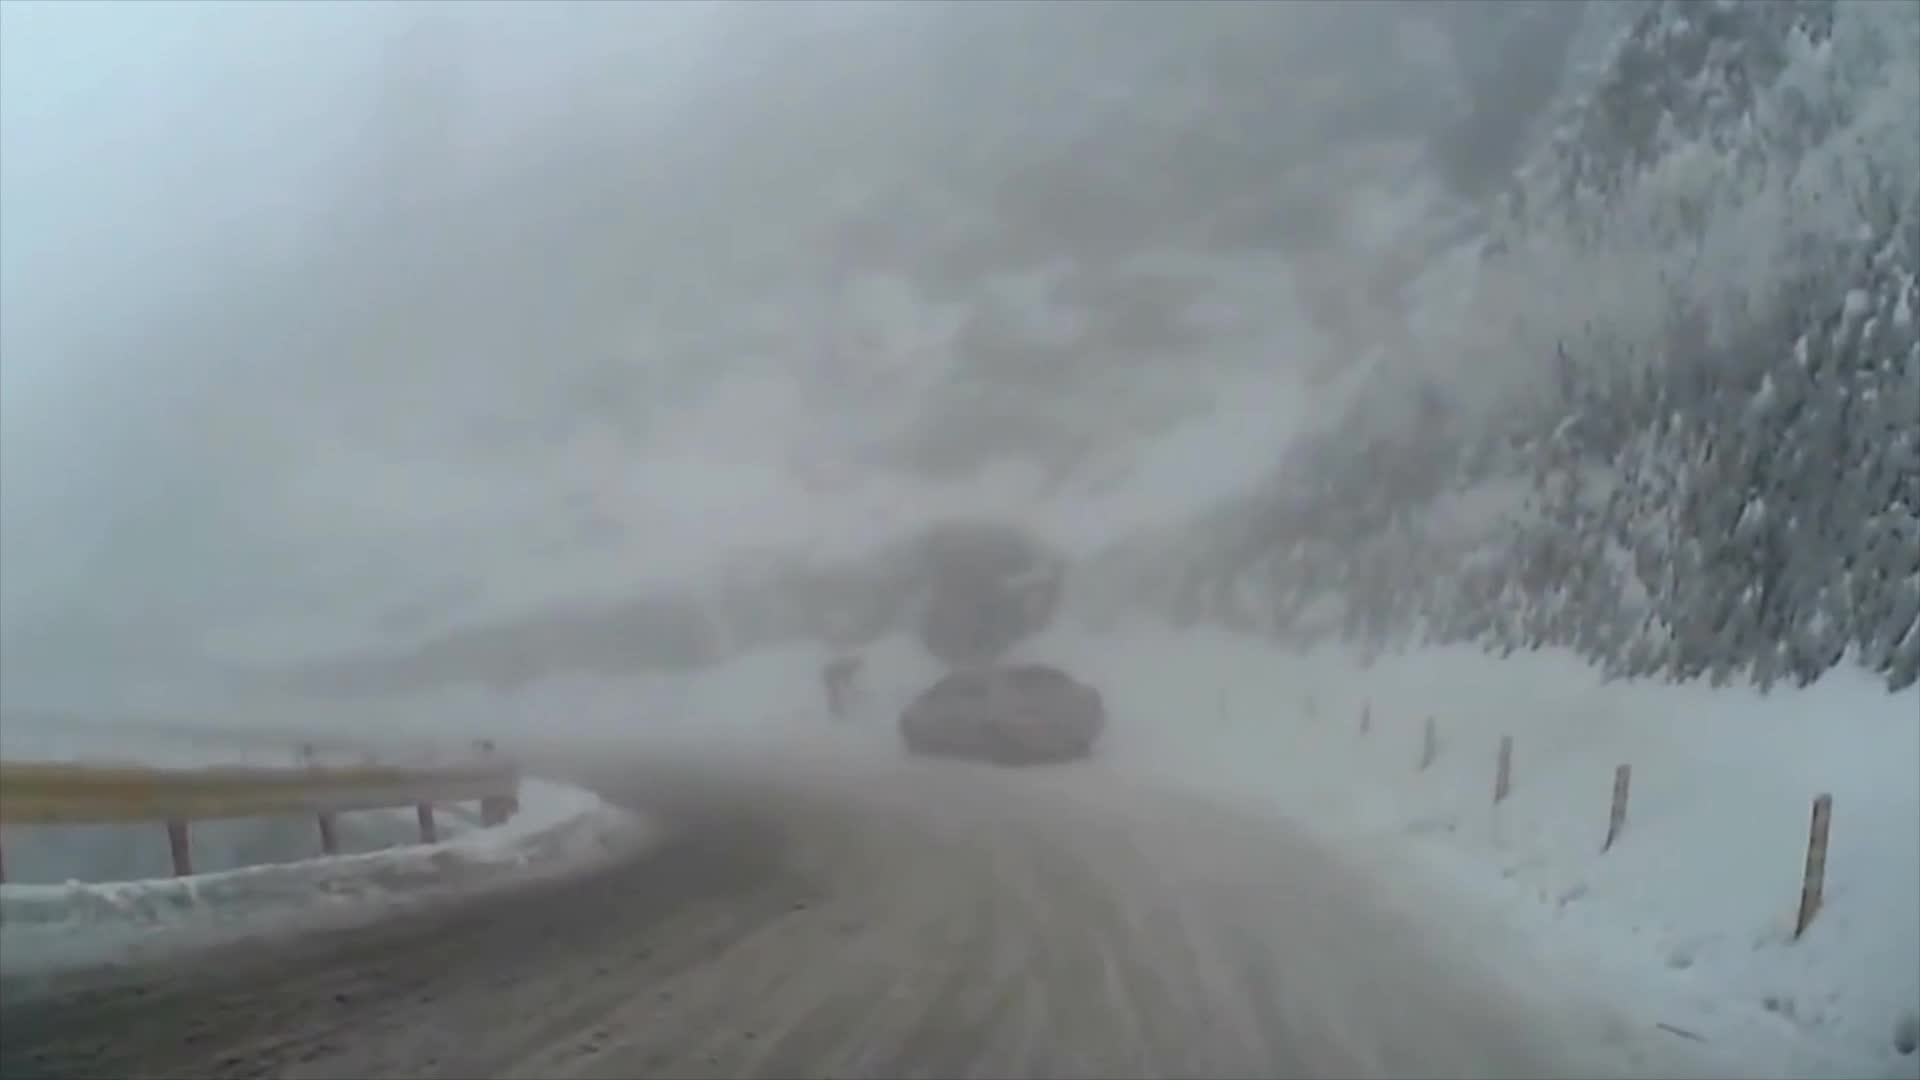pedestrian: (821, 655, 867, 722)
vehicle: (897, 664, 1102, 765)
